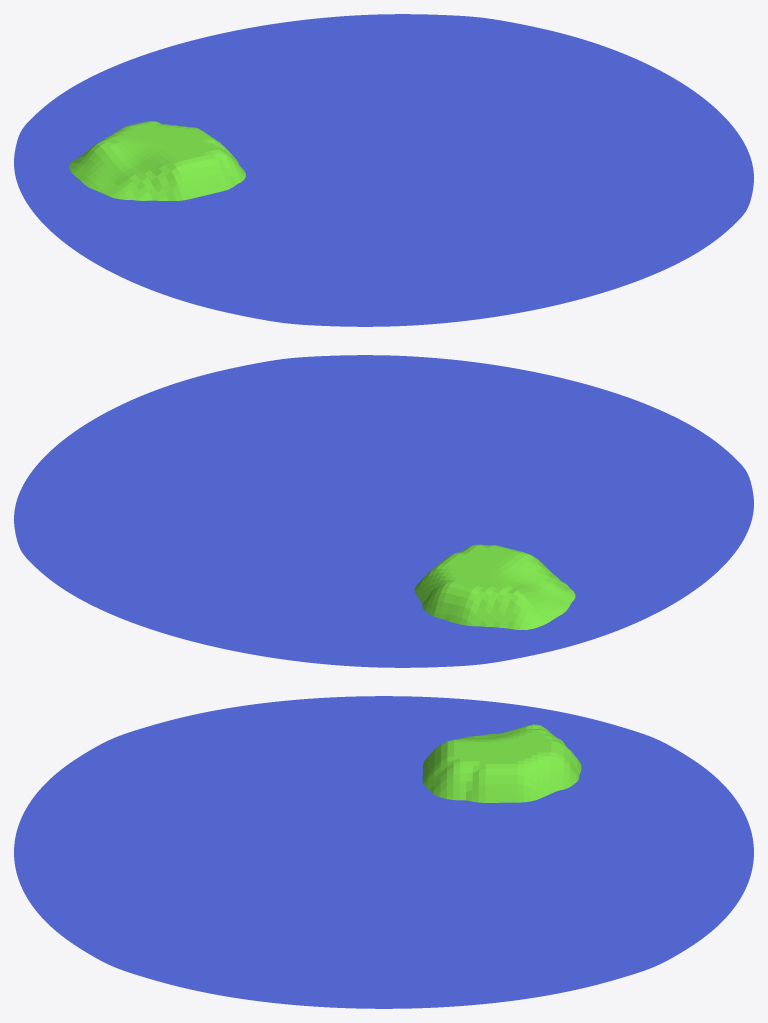
Rendered from enemyIsland.fbx.
3 renders of one model, top to bottom at view 1: azimuth 30°, elevation 25°; view 2: azimuth 150°, elevation 25°; view 3: azimuth 270°, elevation 25°, orthographic. The views are drawn at different scales.
Visible parts, largest first — view 1: Water, Plane; view 2: Water, Plane; view 3: Water, Plane.
Part boxes in pixels (x1,y1,x2,y2): Water: [14, 14, 753, 326]; Plane: [69, 121, 245, 200]; Water: [14, 355, 753, 667]; Plane: [414, 544, 575, 629]; Water: [14, 696, 753, 1008]; Plane: [422, 724, 581, 802].
Bounding box in the file's own units: 462 × 26.43 × 462.
